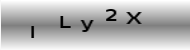2: (104, 8, 117, 22)
L: (58, 13, 71, 29)
X: (126, 10, 142, 25)
l: (28, 25, 36, 39)
y: (79, 19, 95, 32)
